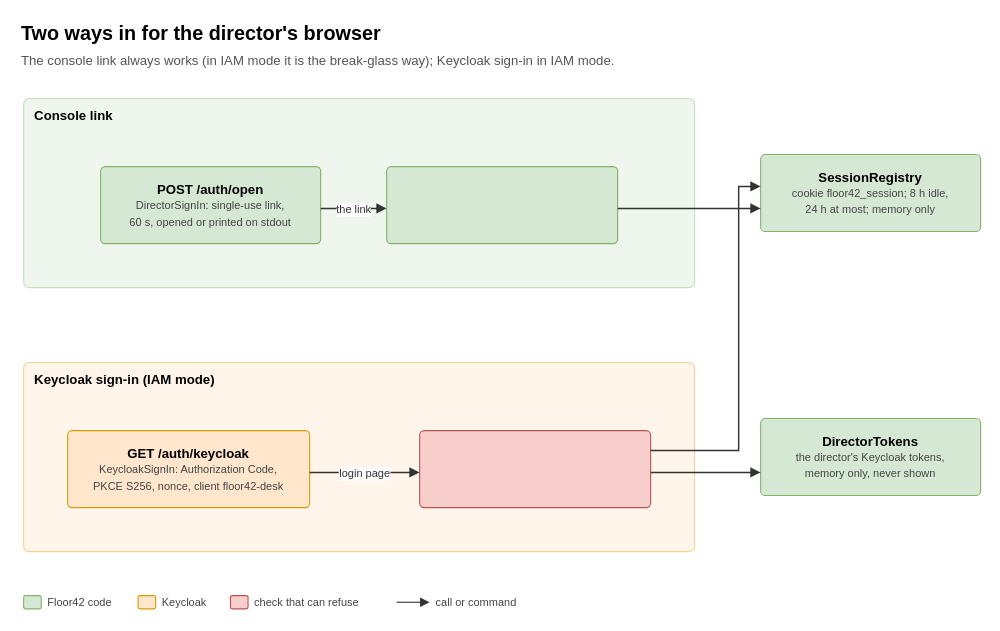
The diagram is 1000 pixels wide and 631 high, and some of its shapes have lost their labels. The centre of each missing label's shape, as x and y in pixels:
"GET /auth/callback IdTokenCheck: RS256, issuer keys, audience, nonce, 30 s skew" belongs at point 535,469.
"GET /auth?... LocalAccessGuard.login; IAM mode: journaled as BreakGlassSignIn" belongs at point 502,205.
